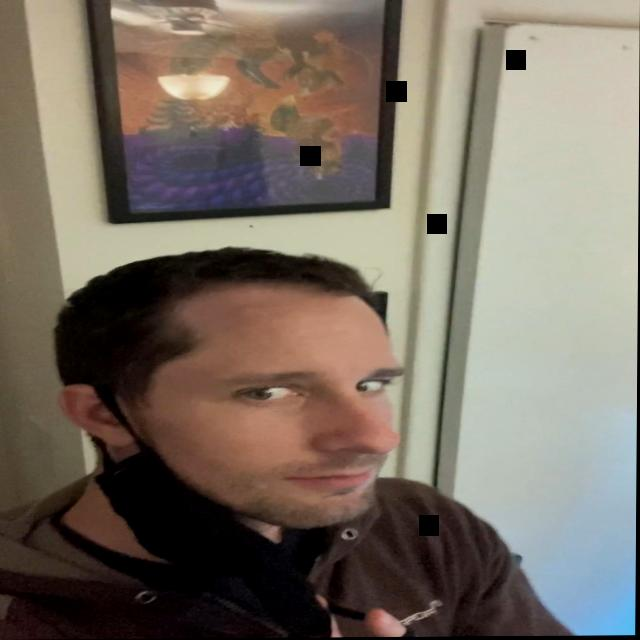NO-Mask: (93, 264, 404, 557)
